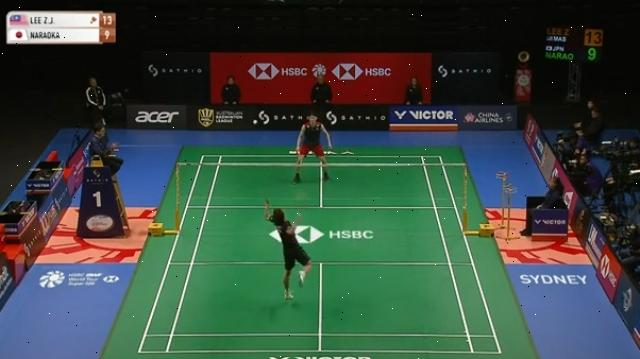Shuttlecock: (250, 116, 262, 128)
